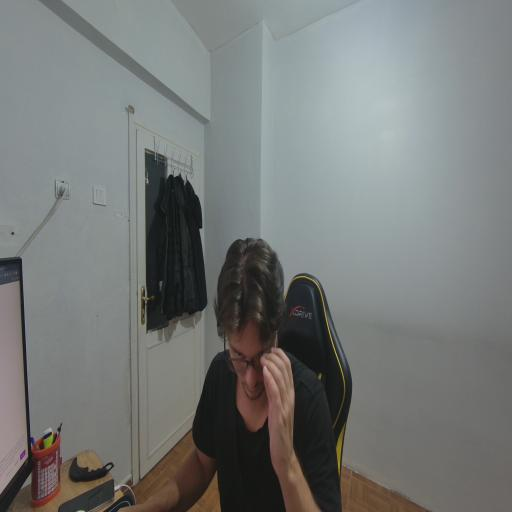cuma-face-v2: (210, 212, 285, 412)
